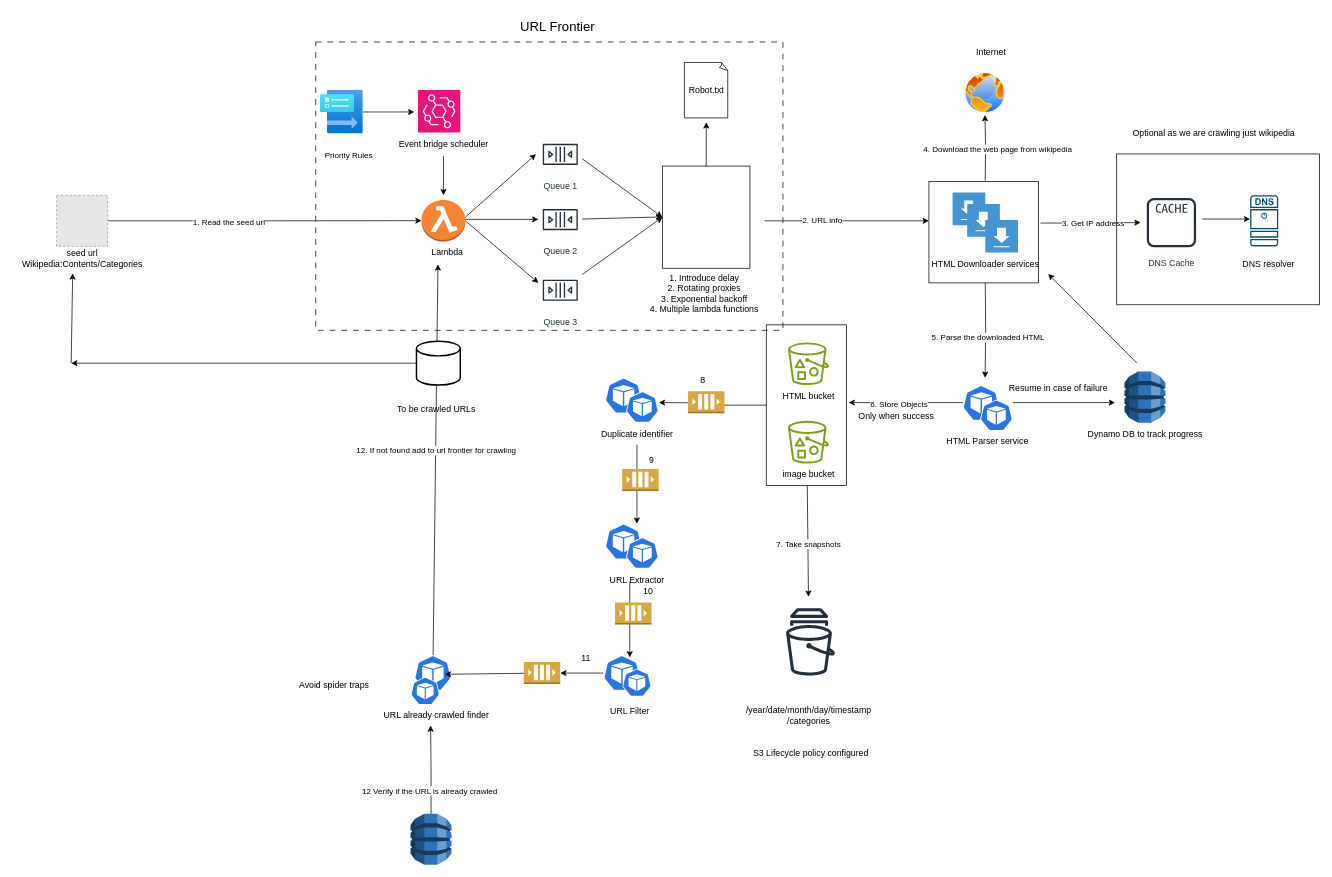
Some shapes in this 1332 by 877 pixel diagram are drawn without their labels. Grey dashed boxes stand in for pictures. Each missing label, with the centre of its shape:
"DB" goes at point (438, 362).
"Queue processor" goes at point (706, 216).
"Snapshot Archive" goes at point (810, 641).
